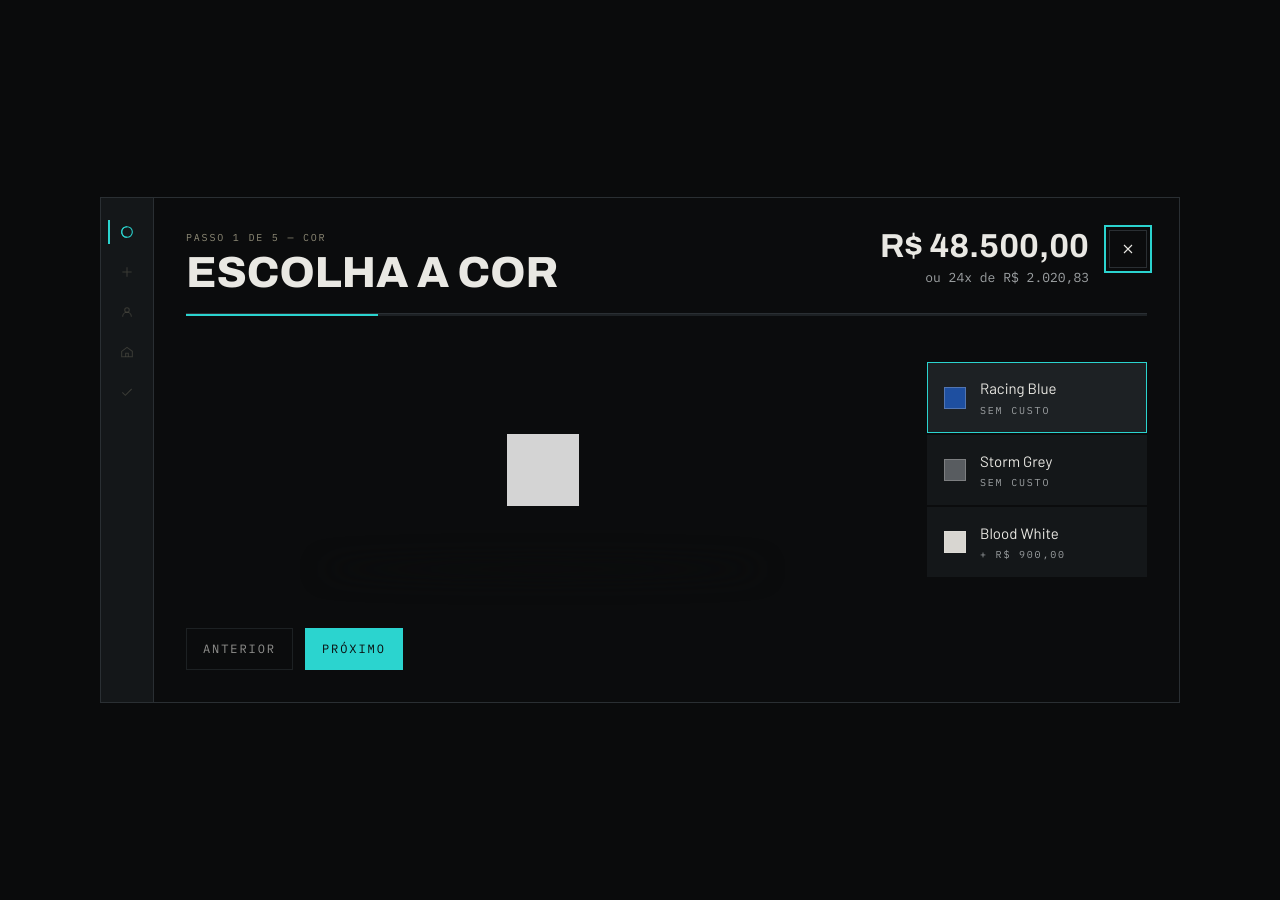
Configurator › segura o avanço e avisa quando o passo tem campo inválido
Click the button "Próximo": (354, 649) [305,628,403,670]
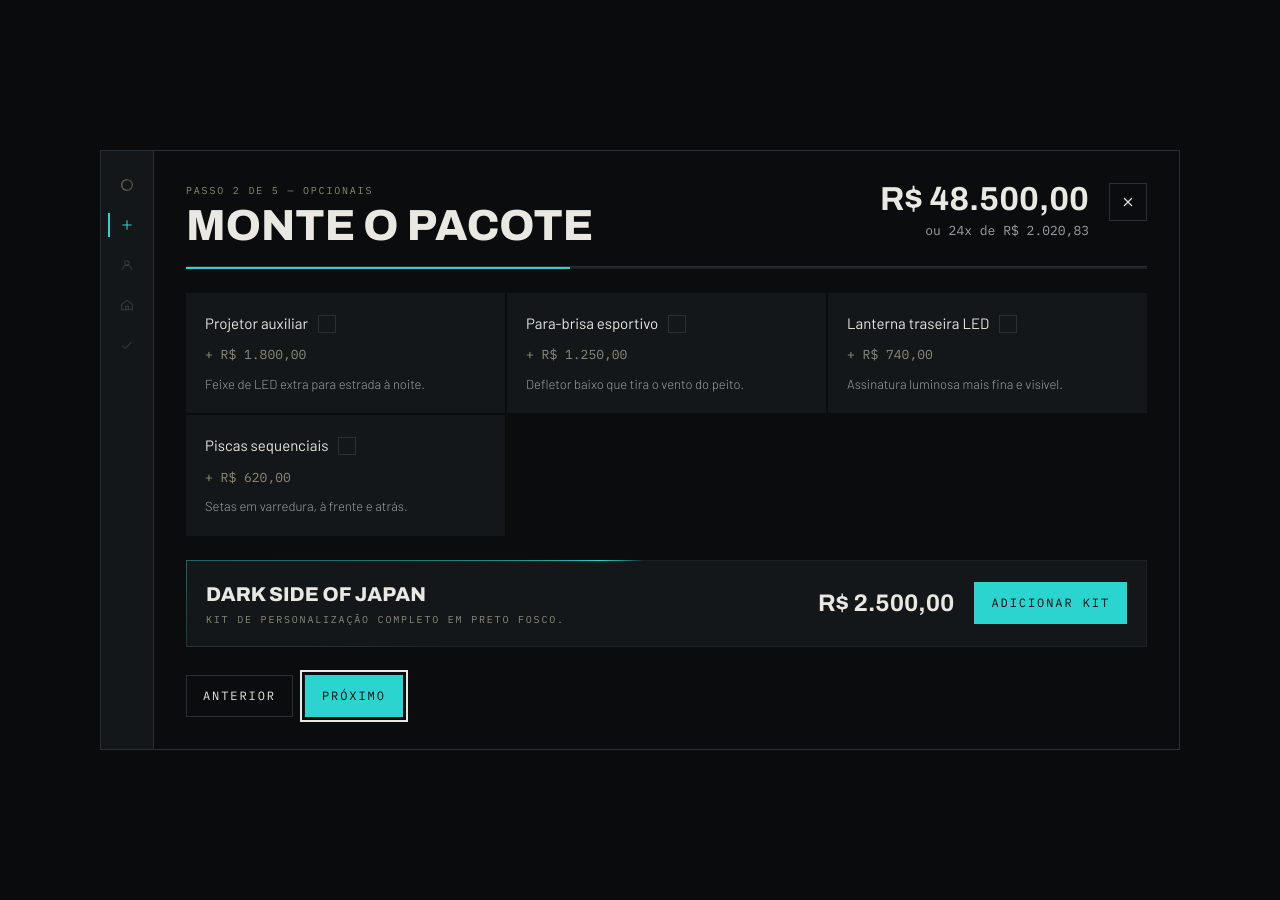
Click the button "Próximo": (354, 696) [305,674,403,716]
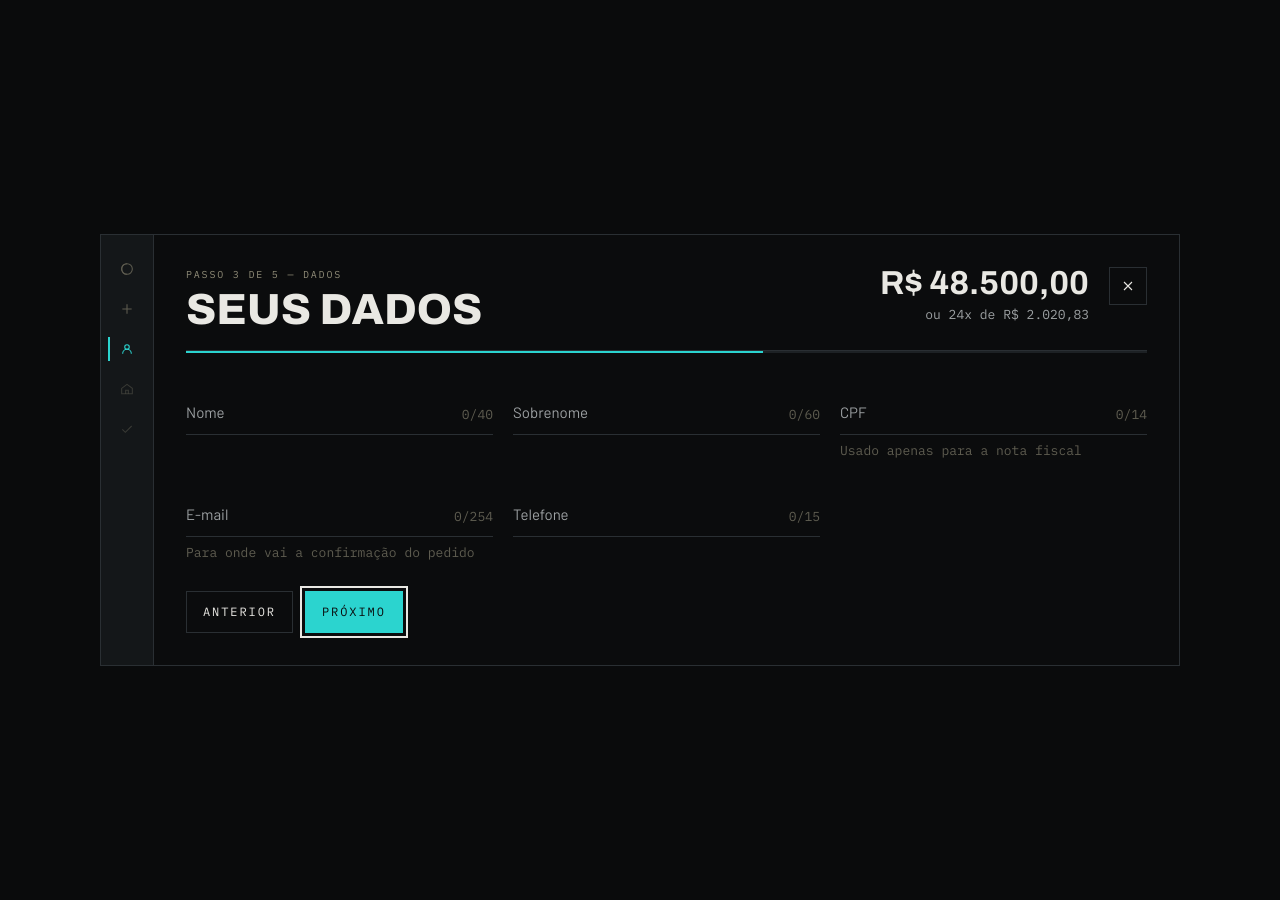
Click the button "Próximo": (354, 612) [305,590,403,632]
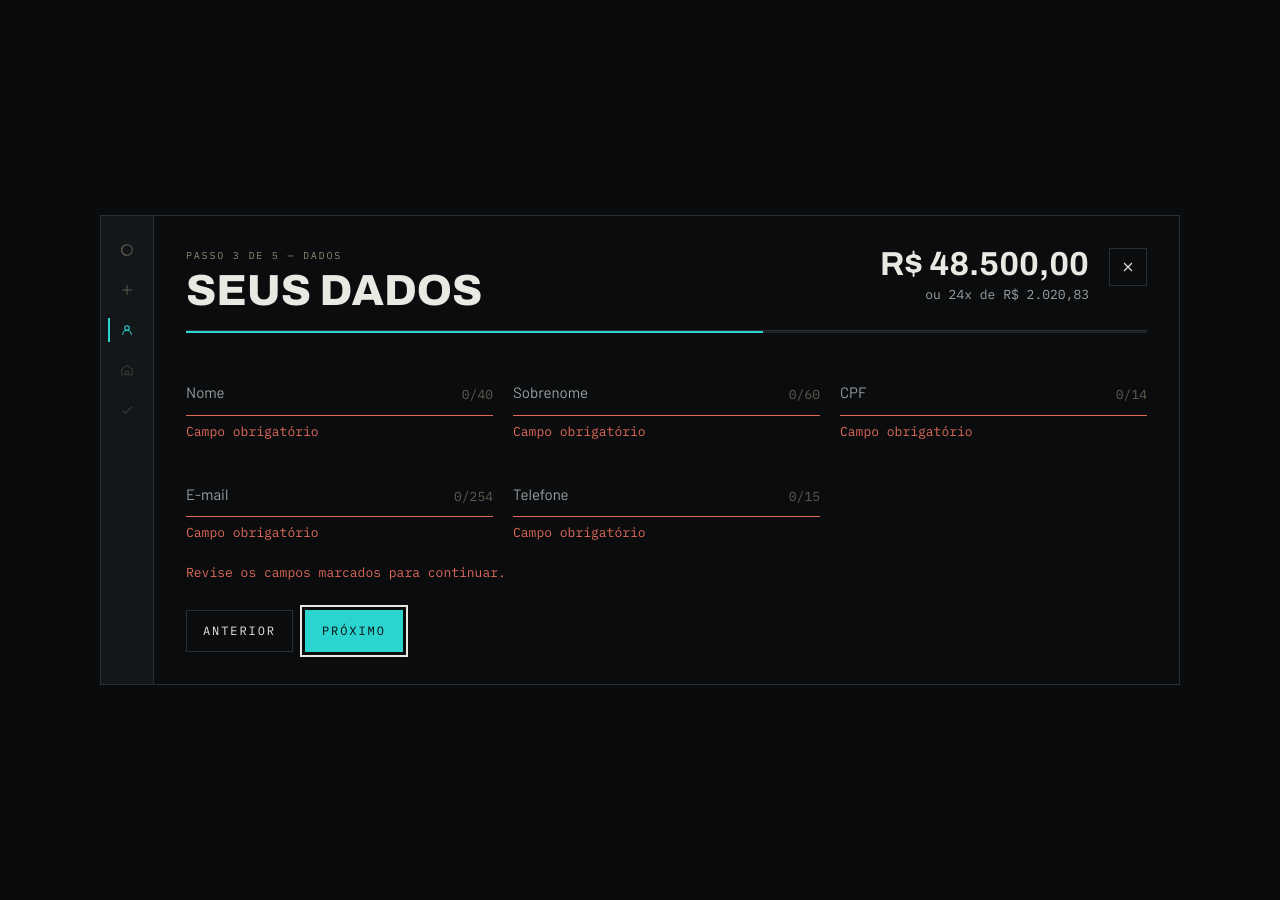
Expected: the message shows "Revise os campos marcados", [186,564,506,581]
